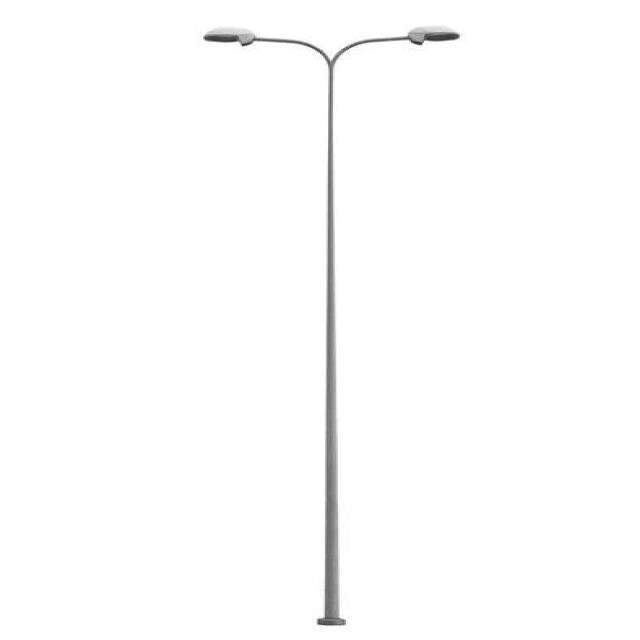Pole: (205, 26, 460, 626)
